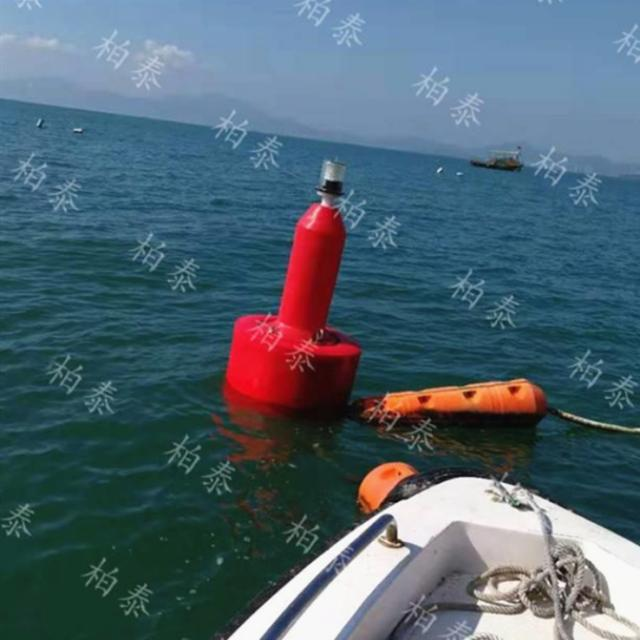buoy: (224, 156, 367, 417)
